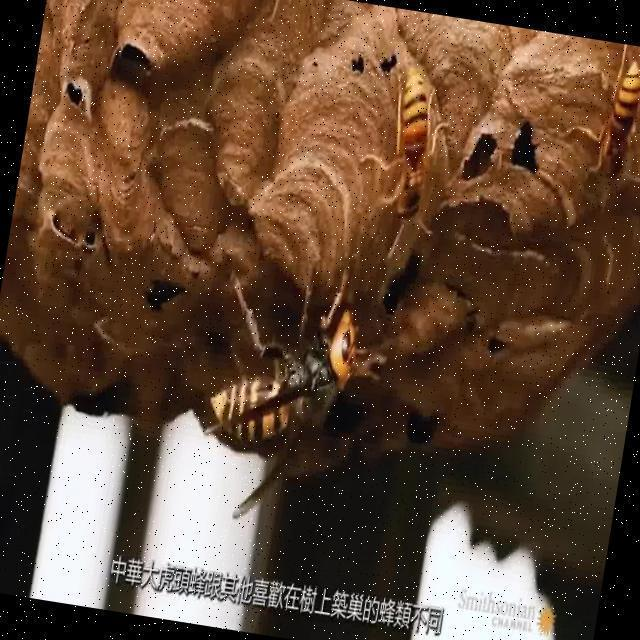Wasp: (186, 264, 369, 516)
